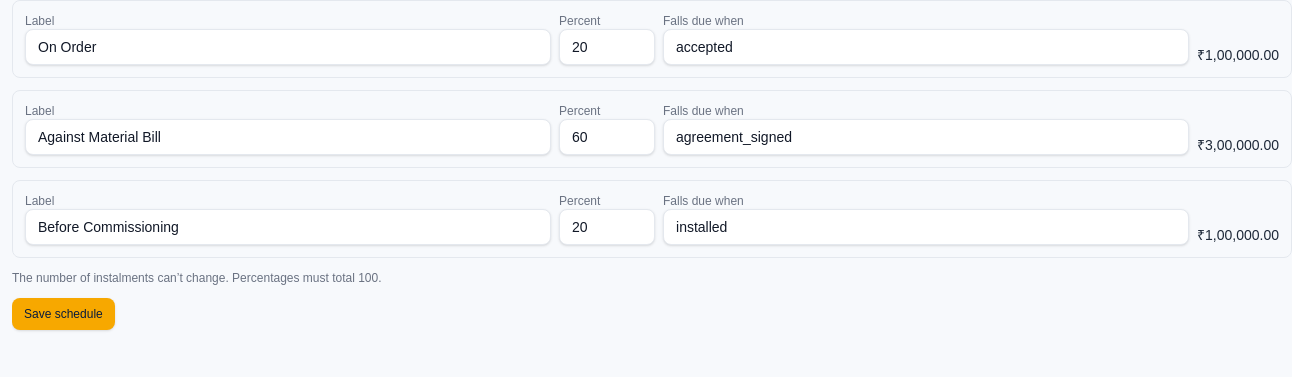
Test: PaymentScheduleEditor › saves the edited values as strings with the same number of instalments
This screenshot has width=1292, height=377.
Replace the text in the field named "Instalment 1 percent" with "25" at (607,47), box left=559, top=29, right=655, bottom=65
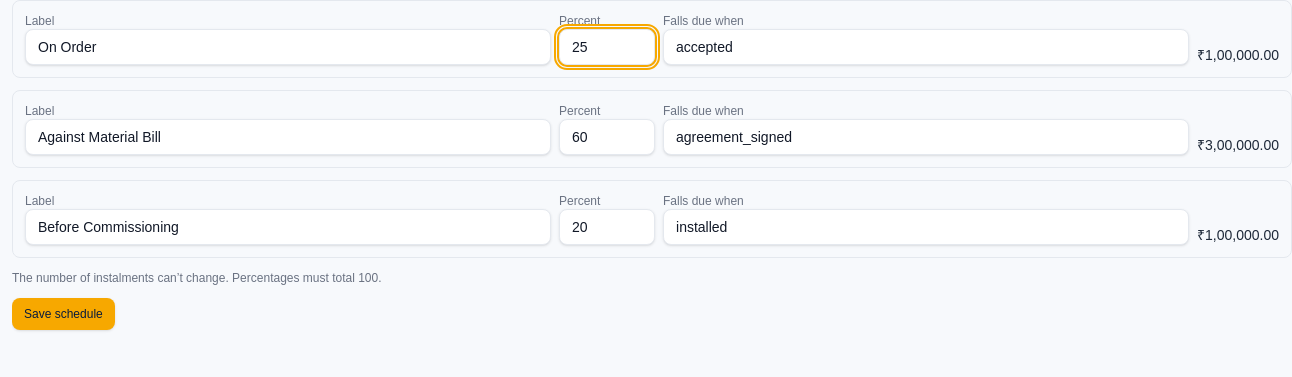
Click the button "Save schedule" at (63,314), box left=12, top=298, right=115, bottom=330
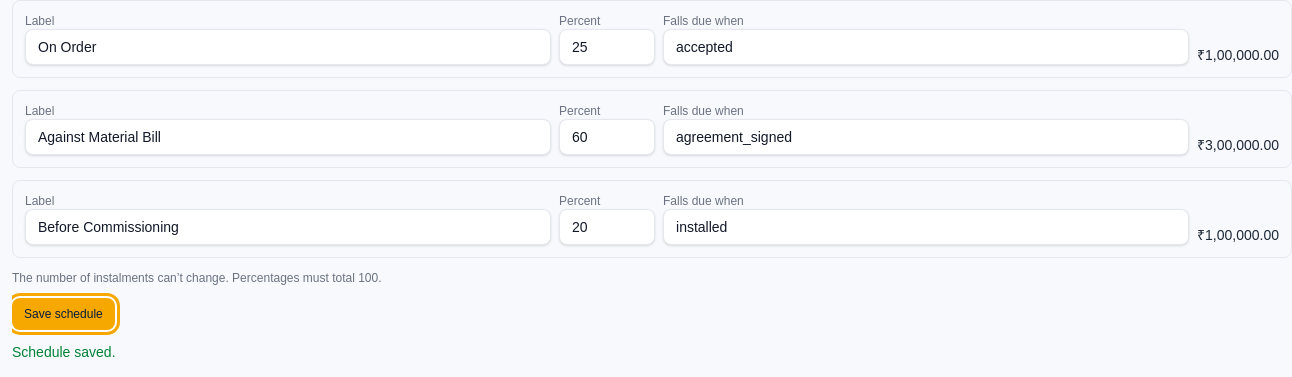
Expected: the message reads "Schedule saved.", left=12, top=344, right=116, bottom=360
